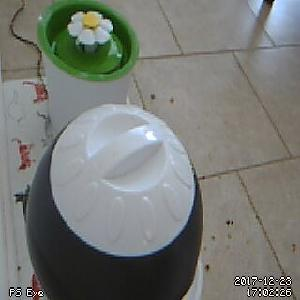fountain: (36, 1, 141, 83)
